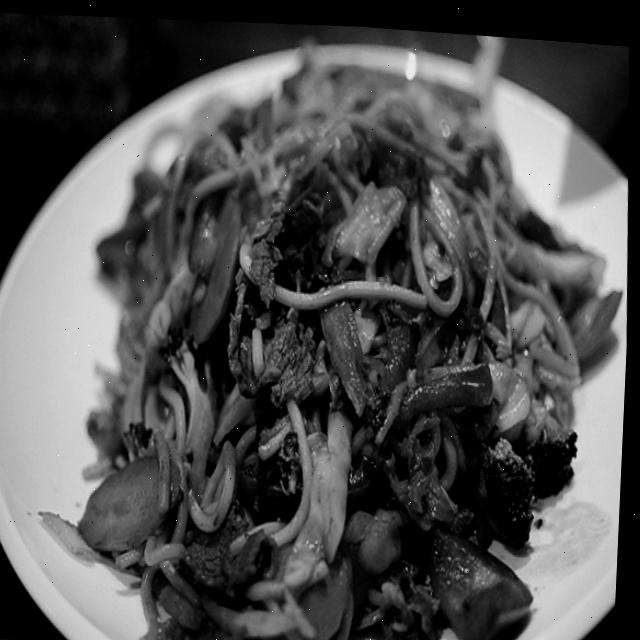牛肉菜式: (9, 6, 640, 640)
